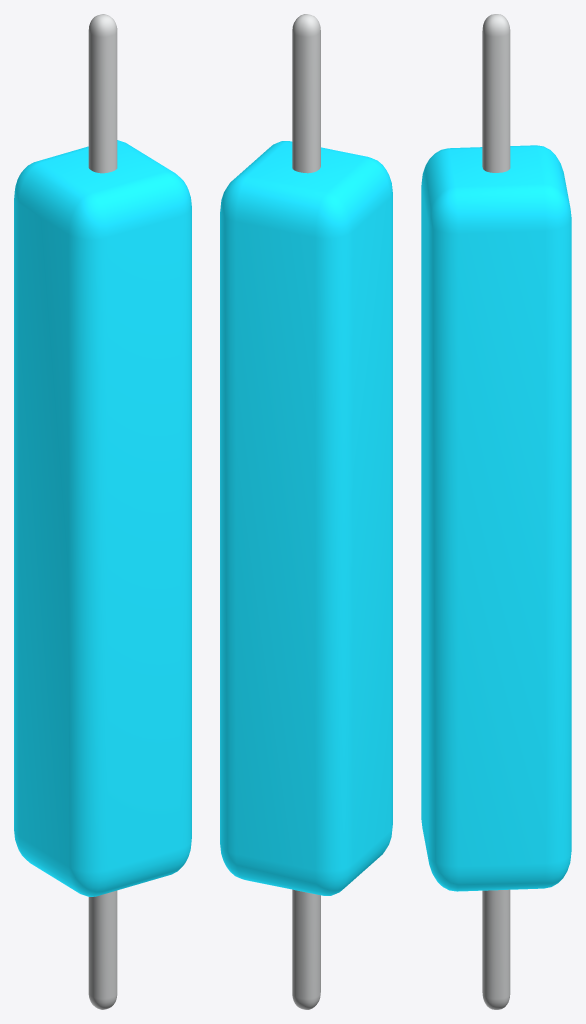
Rendered from CandlestickSpeedBoost.fbx.
The picture shows the model from 3 angles, left to right: view 1: azimuth 30°, elevation 25°; view 2: azimuth 150°, elevation 25°; view 3: azimuth 270°, elevation 25°; orthographic projection.
Visible parts, largest first — view 1: JapaneseCandle45; view 2: JapaneseCandle45; view 3: JapaneseCandle45.
Boxes of the visible parts, x1,y1,x2,y2 form: JapaneseCandle45: (14, 14, 191, 1009); JapaneseCandle45: (220, 14, 392, 1009); JapaneseCandle45: (421, 14, 571, 1009).
Size of the model in its own units: 30.05 by 219 by 30.05.
